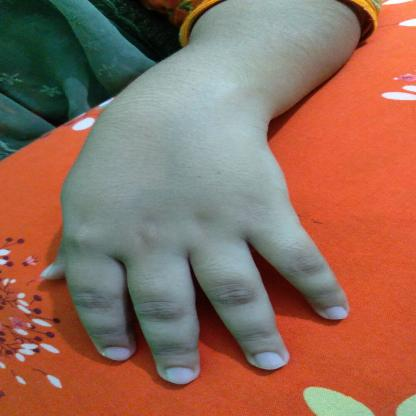hand: (12, 0, 406, 410)
